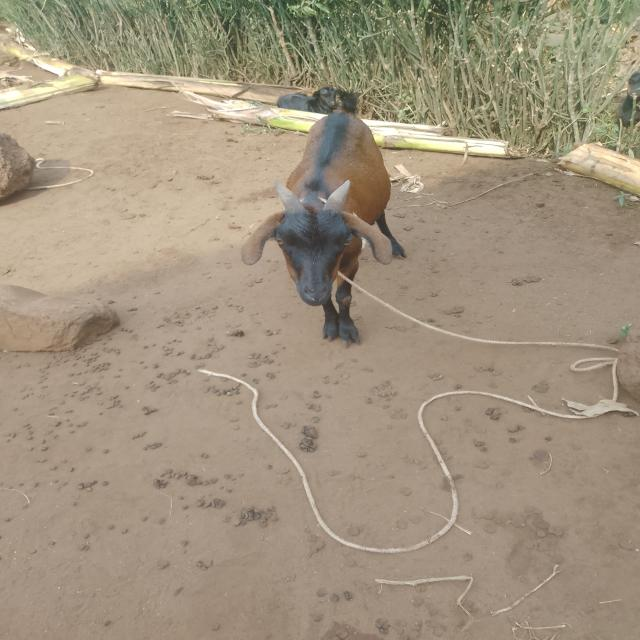goat: (171, 62, 469, 377)
